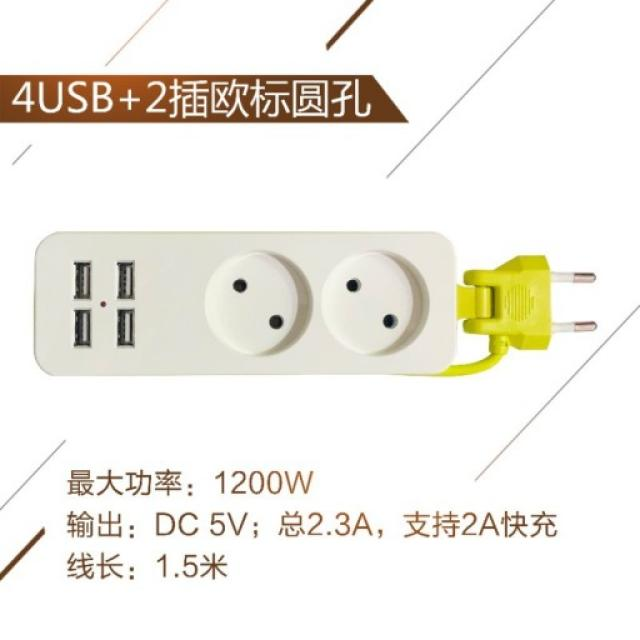typeb: (42, 198, 578, 425)
